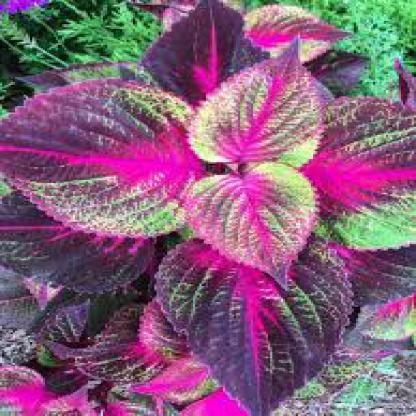Bunga Coleus: (14, 54, 415, 351)
